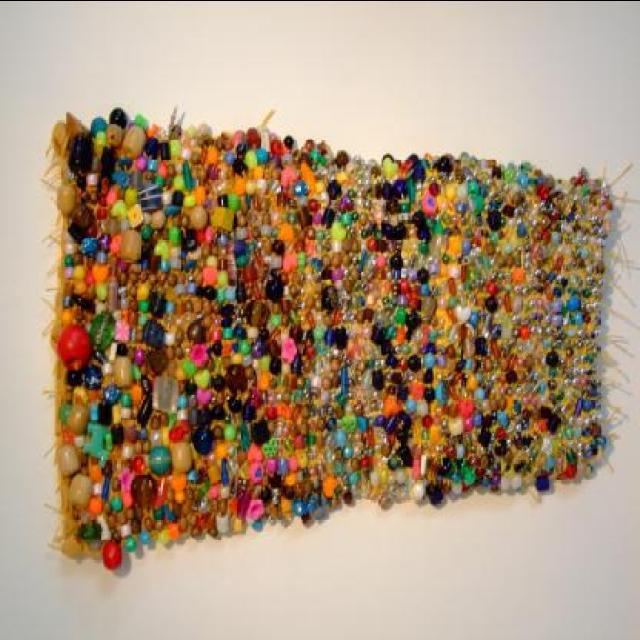Candy: (80, 154, 556, 498)
